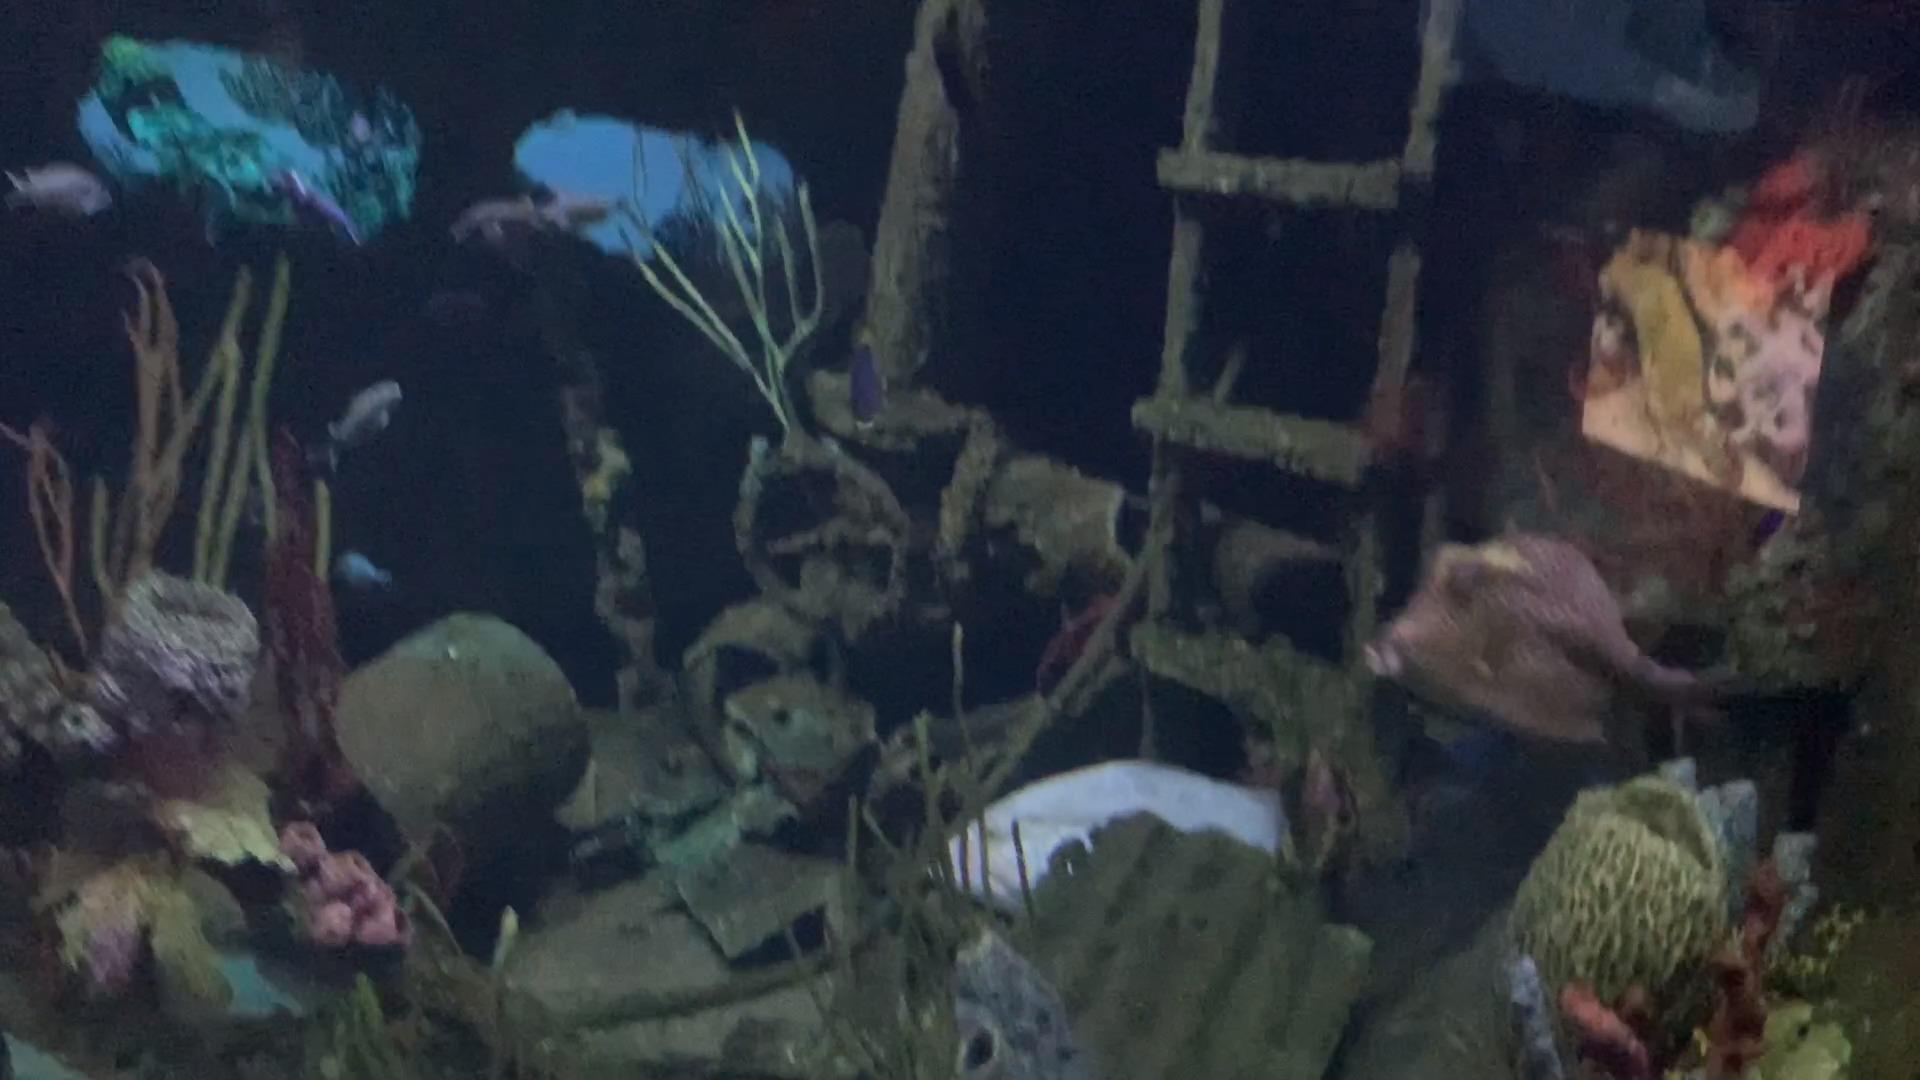fish: (1360, 517, 1702, 758), (916, 761, 1287, 928), (448, 189, 584, 260), (316, 378, 407, 473), (1, 157, 117, 222), (327, 550, 394, 589)
